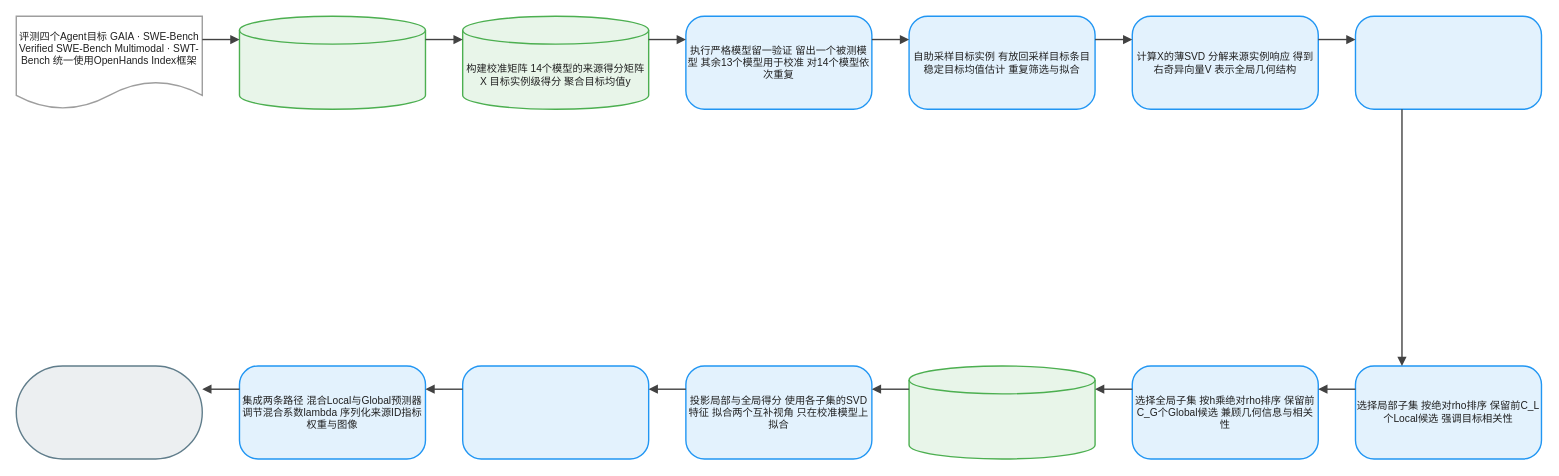
This 1559x476 diagram has some shape labels left out. Here are the shapes that lost their labels. From the top down, the centre of each, then its label:
At [332,62]: "评测19个来源基准 低成本非Agent原子实例 覆盖11类能力 使用lm-eval或官方代码".
At [1448,62]: "计算两类信号 由V得到杠杆分h 与目标均值的绝对Spearman rho 仅使用校准模型".
At [109,412]: "验证代理质量 MAE 3.80% · Spearman 0.81 成对准确率84.37% 目标评测成本低于1%".
At [555,412]: "拟合两类预测目标 线性最小二乘预测绝对得分 逻辑回归预测成对排序 预测留出模型的Agent能力".
At [1001,412]: "形成具体目标代理 处理Local与Global重叠 按固定比例继续扩展候选 达到C=100个唯一实例后停止".
